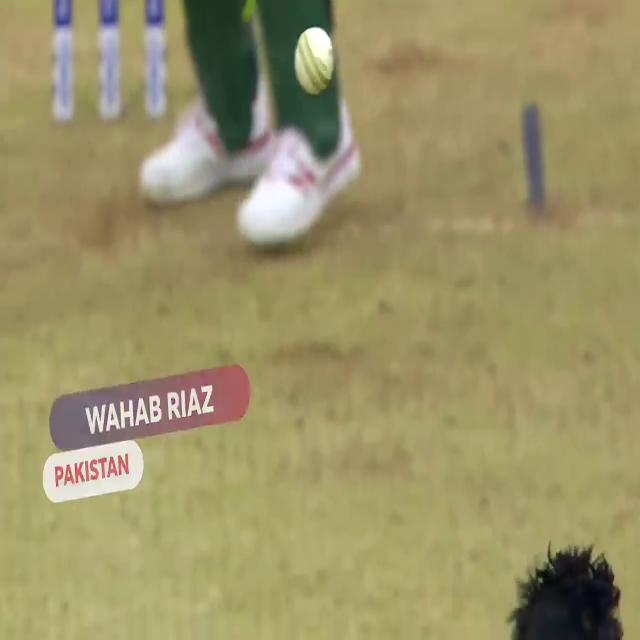ball: (290, 22, 339, 100)
